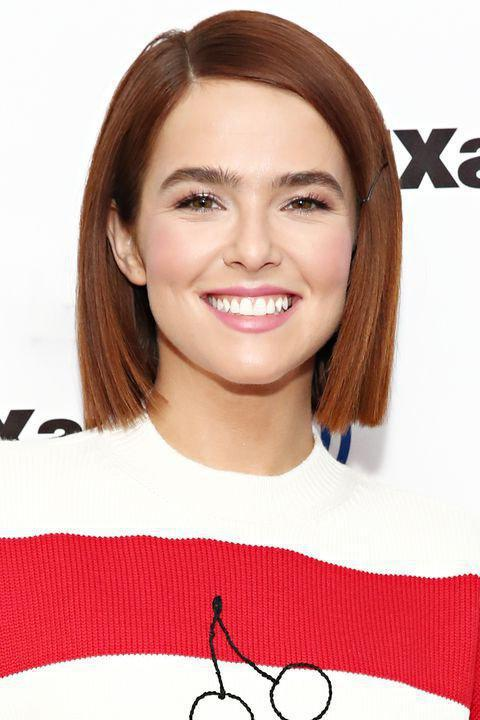Sober: (149, 97, 352, 397)
